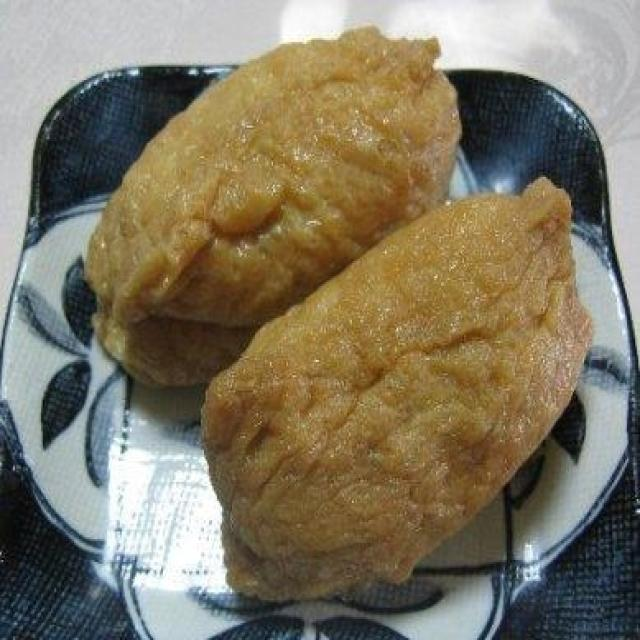寿司卷物: (51, 15, 601, 617)
